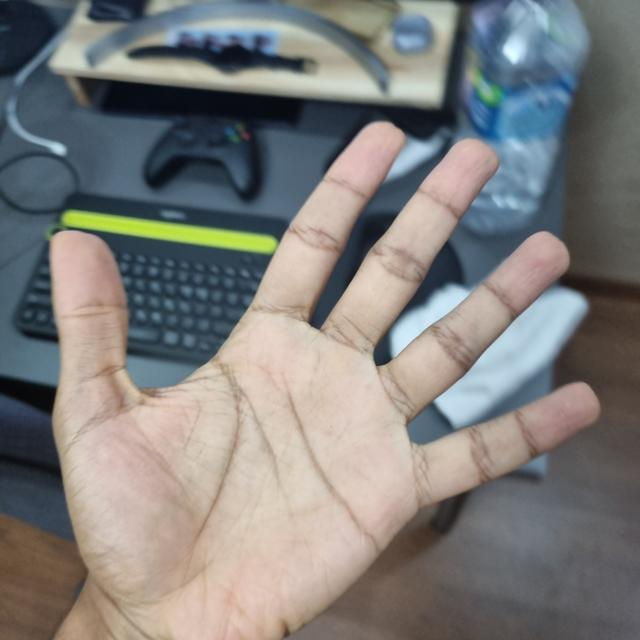Paper: (52, 122, 593, 640)
